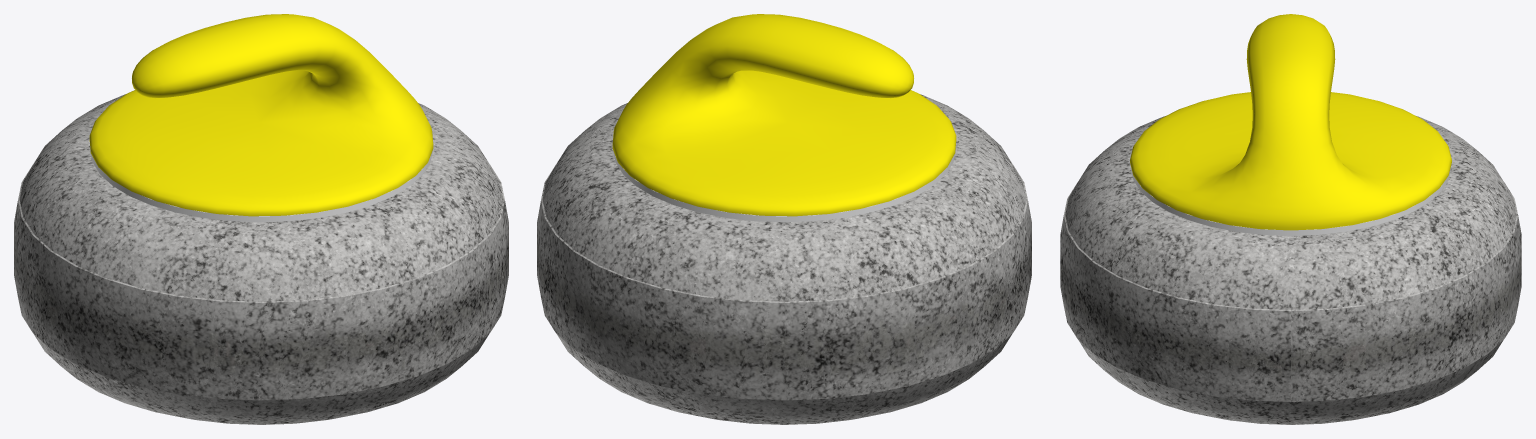
File: curling_stone.glb
3 views of the same model, side by side, from view 1: azimuth 30°, elevation 25°; view 2: azimuth 150°, elevation 25°; view 3: azimuth 270°, elevation 25° (orthographic). The views are drawn at different scales.
Parts seen in each view (by area): view 1: Granite, Handle, Gasket; view 2: Granite, Handle, Gasket; view 3: Granite, Handle, Gasket.
Part boxes in pixels (x1,y1,x2,y2): Granite: [14, 94, 508, 424]; Handle: [89, 14, 433, 216]; Gasket: [90, 146, 432, 222]; Granite: [537, 94, 1031, 424]; Handle: [612, 14, 956, 216]; Gasket: [613, 146, 955, 222]; Granite: [1060, 116, 1521, 424]; Handle: [1130, 14, 1451, 230]; Gasket: [1131, 167, 1450, 235].
Size of the model in its own units: 2 by 1.45 by 2.
3 materials, 1 textured.
